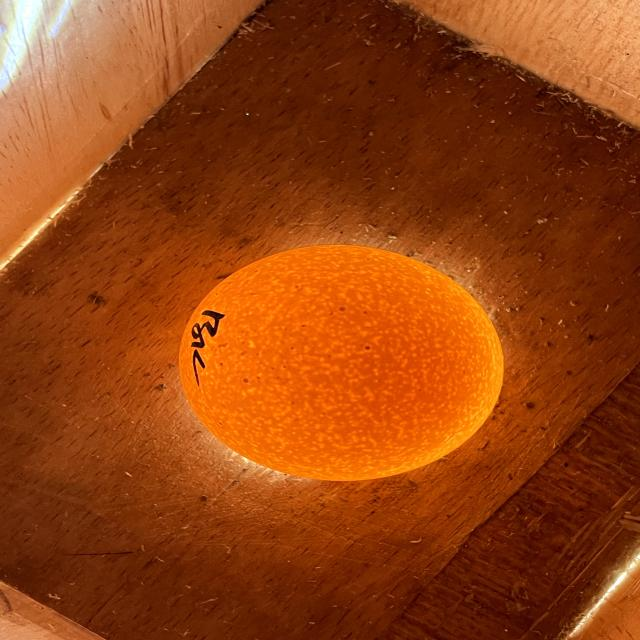infertile: (180, 245, 503, 480)
